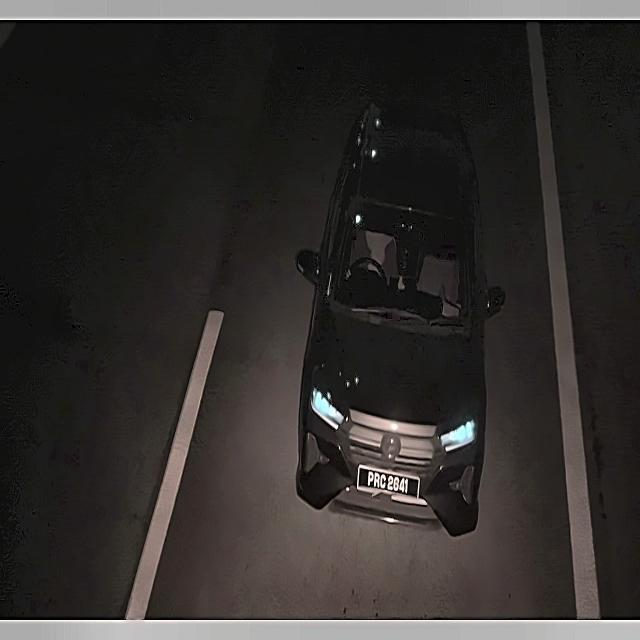car: (356, 455, 428, 507)
